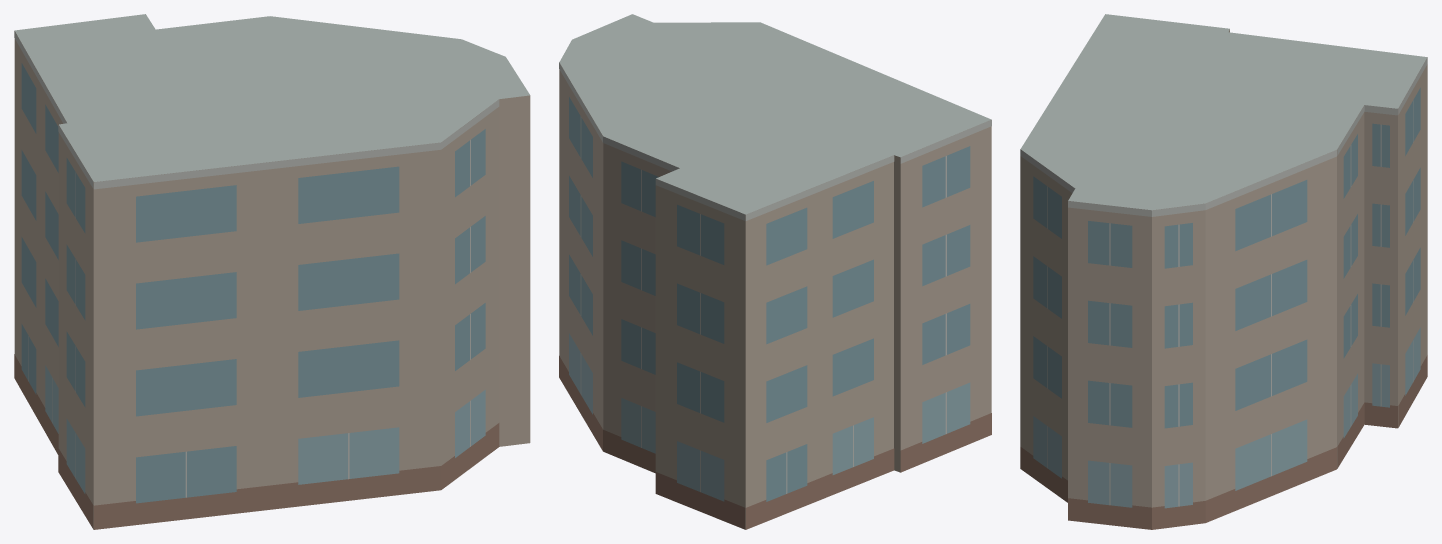
Rendered from survey-upis-32670842.glb.
The picture shows the model from 3 angles, left to right: view 1: azimuth 30°, elevation 25°; view 2: azimuth 150°, elevation 25°; view 3: azimuth 270°, elevation 25°; orthographic projection. The views are drawn at different scales.
Visible parts, largest first — view 1: survey-upis-32670842.tmp; view 2: survey-upis-32670842.tmp; view 3: survey-upis-32670842.tmp.
Boxes of the visible parts, x1=… form: survey-upis-32670842.tmp: x1=14, y1=14, x2=530, y2=529; survey-upis-32670842.tmp: x1=559, y1=14, x2=991, y2=529; survey-upis-32670842.tmp: x1=1020, y1=14, x2=1427, y2=529.
Bounding box in the file's own units: 15.29 × 11.6 × 13.4.
